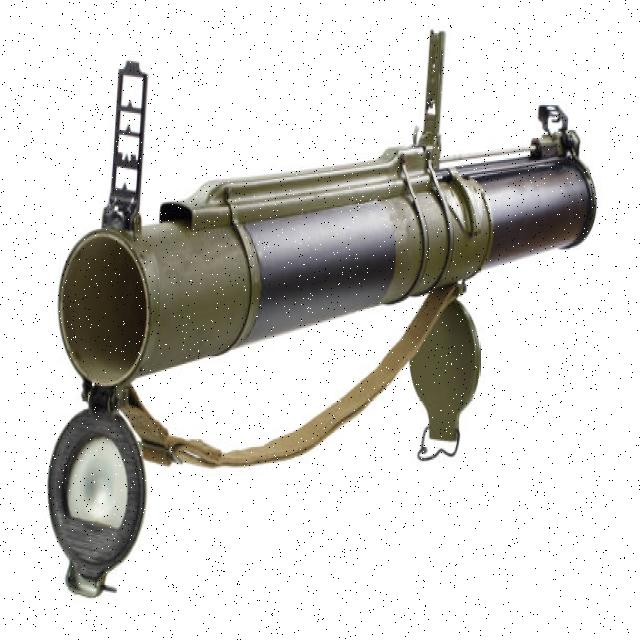bazooka: (41, 26, 599, 618)
